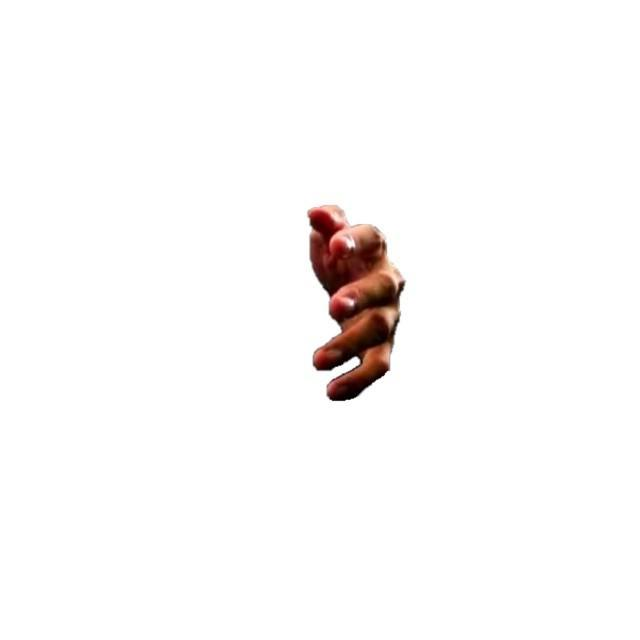pa-: (305, 204, 407, 403)
